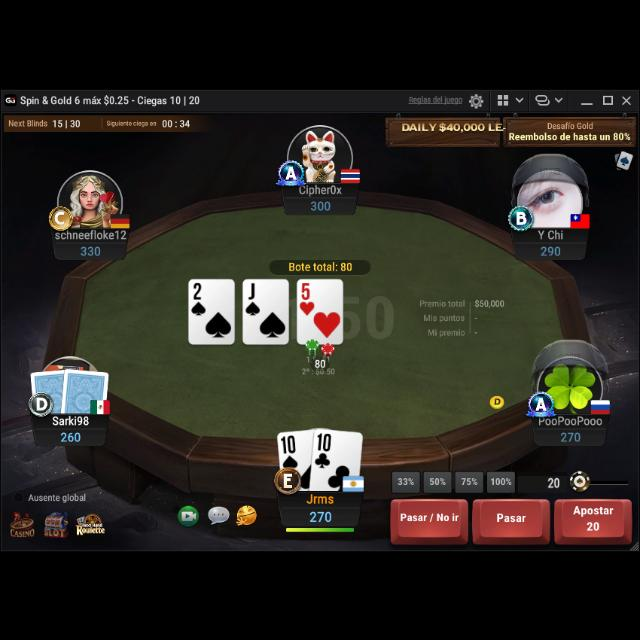2s: (190, 278, 208, 316)
5h: (298, 280, 316, 314)
Js: (243, 280, 263, 316)
Tc: (314, 430, 334, 470)
Ts: (279, 433, 301, 469)
bet_text: (314, 355, 331, 369)
card_back: (60, 363, 110, 413), (29, 364, 72, 414)
dealer: (488, 389, 506, 406)
hero_active: (388, 493, 632, 543)
pot_text: (287, 257, 355, 269)
stack_text: (307, 504, 333, 522), (558, 426, 582, 440), (308, 196, 332, 210), (58, 428, 82, 440), (538, 242, 562, 254), (80, 242, 102, 254)
